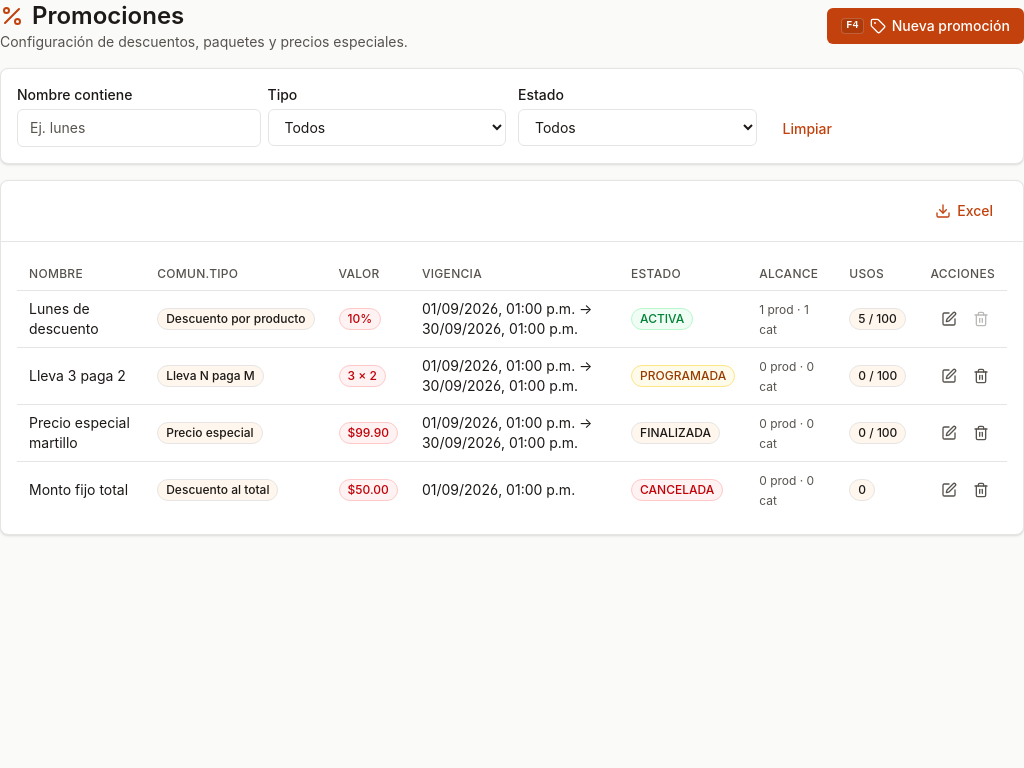
Test: PromocionesPage › agrega y quita productos, agregar/quitar todos
Check: the text "Lunes de descuento" is shown, box x1=17 y1=290 x2=145 y2=348
Step 1. Click the button "F4 Nueva promoción" → click(926, 26), box x1=827 y1=8 x2=1023 y2=44
(page scrolled)
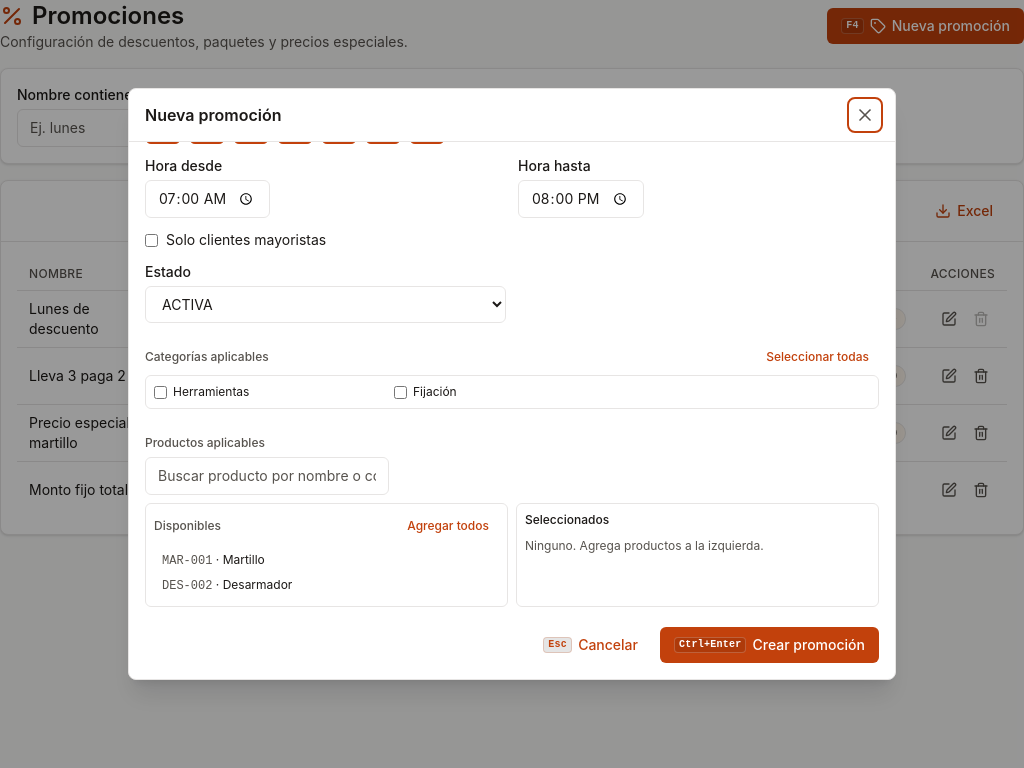
Check: the text "Disponibles" is shown, box x1=154 y1=518 x2=221 y2=534
Step 2. Click the button "Agregar todos" → click(448, 526), box x1=397 y1=512 x2=499 y2=540
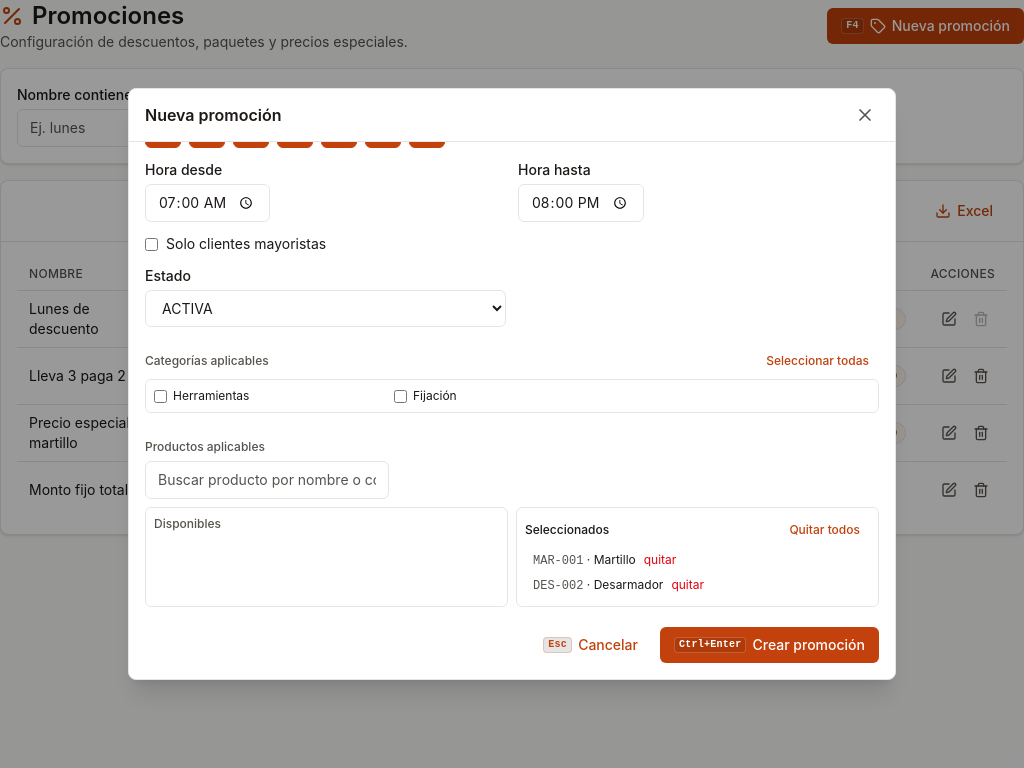
Check: the button "Quitar todos" is shown
Step 3. Click the button "Quitar todos" → click(825, 530), box x1=779 y1=516 x2=870 y2=544
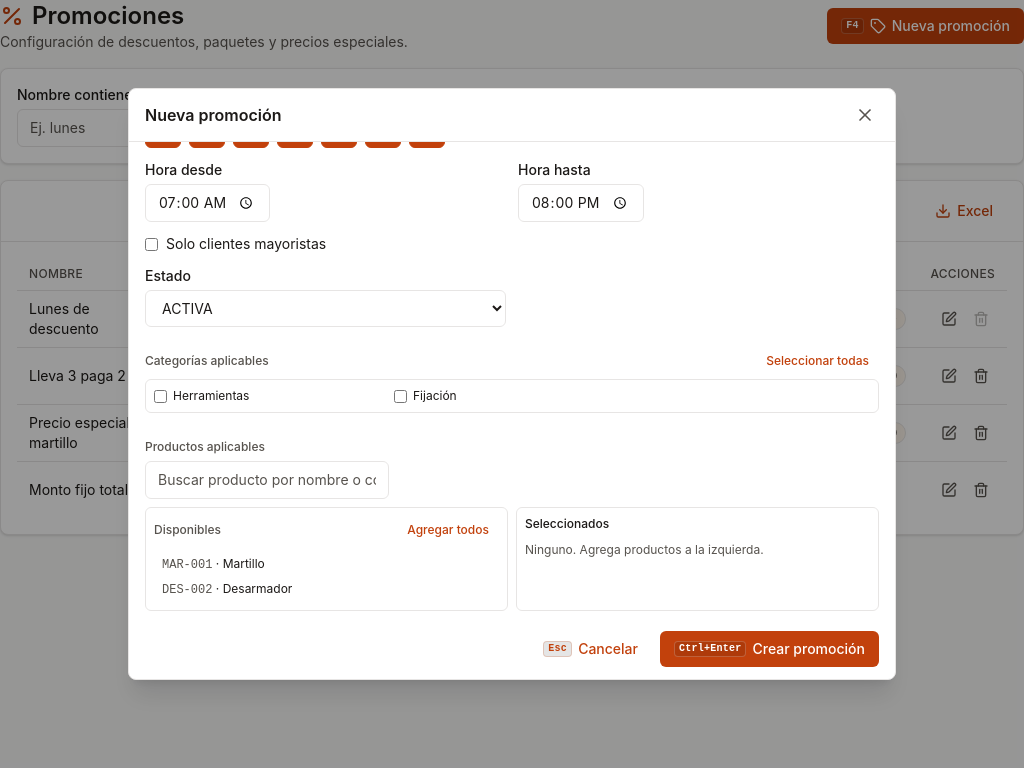
Check: the text "Ninguno. Agrega productos a la izquierda." is shown, box x1=525 y1=542 x2=764 y2=557
Step 4. Click the button "MAR-001 · Martillo" → click(187, 565), box x1=154 y1=552 x2=499 y2=577
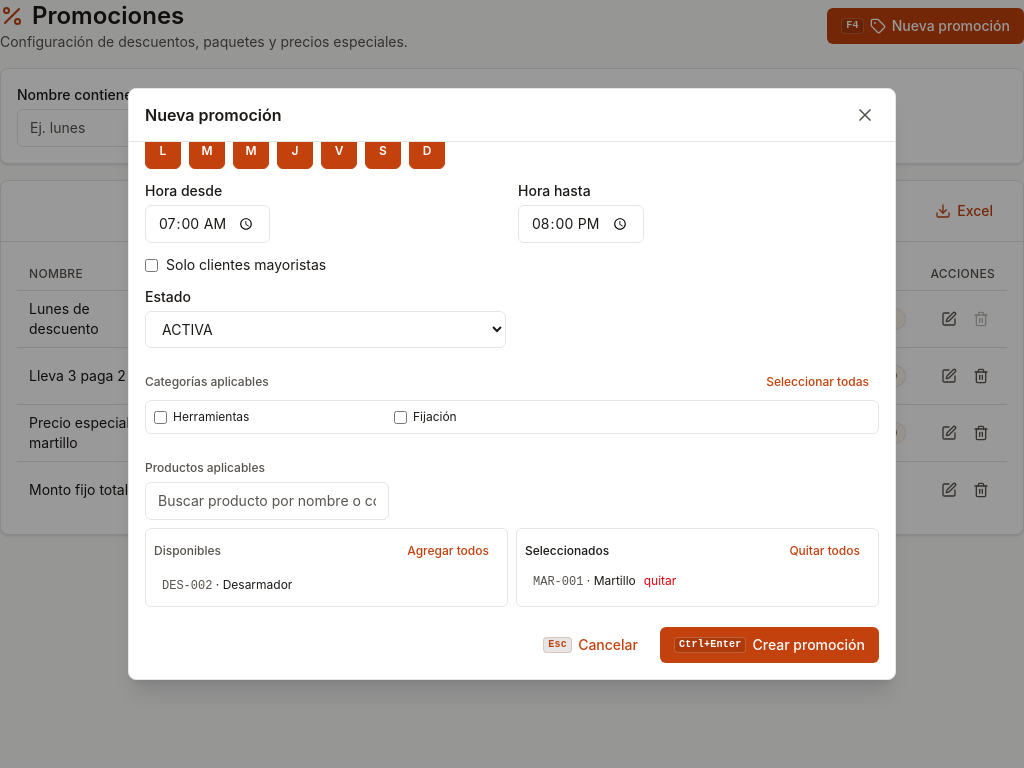
Check: the button "quitar" is shown, box x1=525 y1=569 x2=870 y2=594
